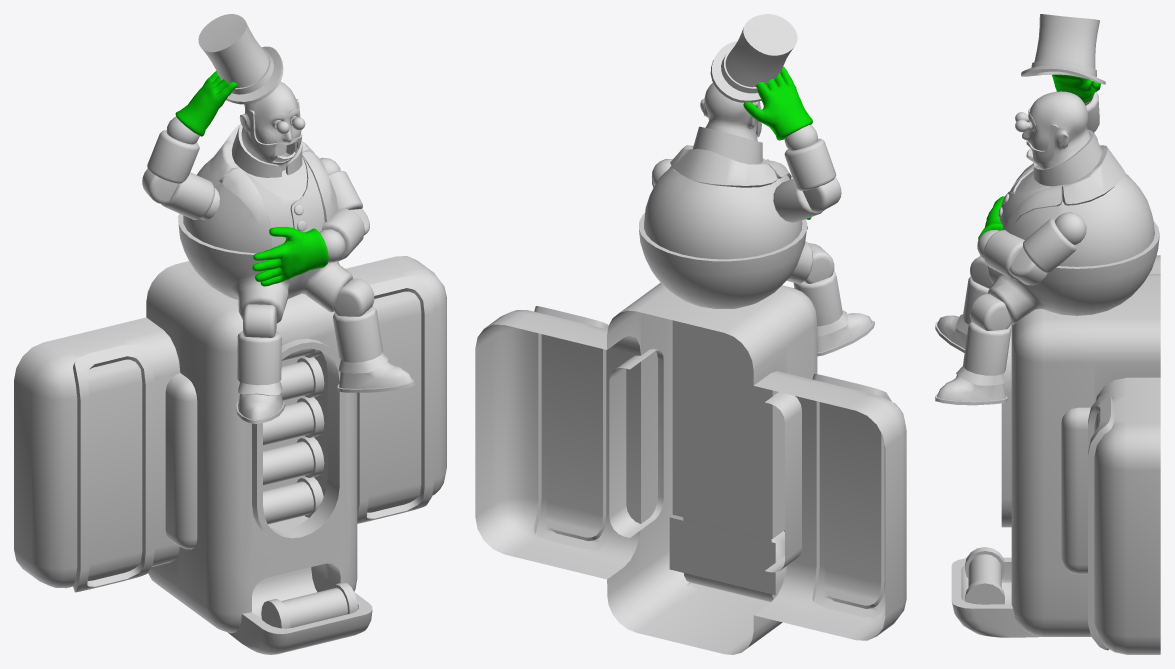
Rendered from VendingMachineDoctorPoppels.fbx.
The picture shows the model from 3 angles, left to right: view 1: azimuth 30°, elevation 25°; view 2: azimuth 150°, elevation 25°; view 3: azimuth 270°, elevation 25°; orthographic projection. The views are drawn at different scales.
Parts seen in each view (by area): view 1: Circle.002; view 2: Circle.002; view 3: Circle.002.
Boxes of the visible parts, left/top/right/bottom form: Circle.002: left=14, top=14, right=446, bottom=654; Circle.002: left=475, top=14, right=906, bottom=654; Circle.002: left=935, top=14, right=1160, bottom=654.
Size of the model in its own units: 140 by 195 by 68.03.
